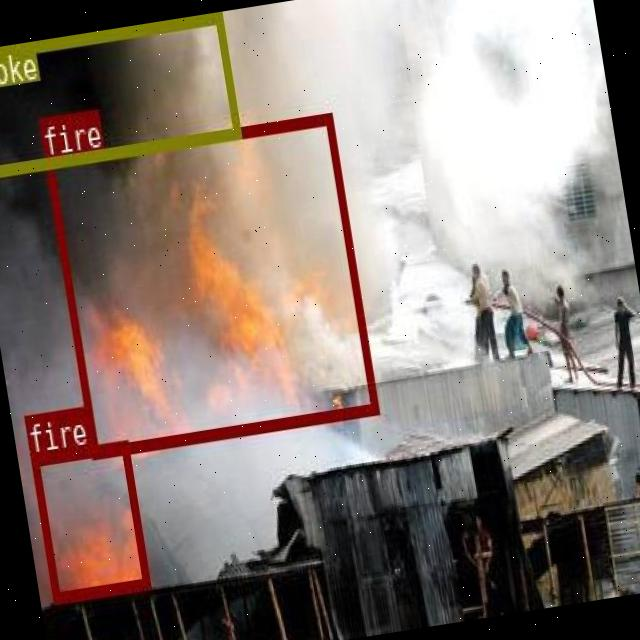fire: (43, 111, 377, 458), (29, 438, 150, 602)
smoke: (0, 12, 239, 179)
